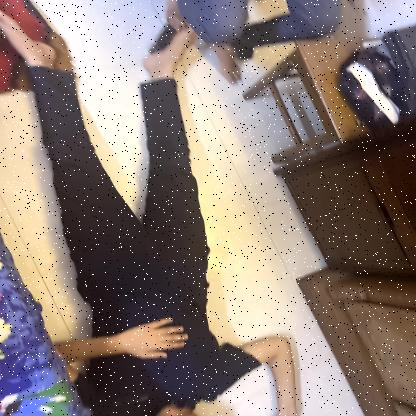hand: (39, 309, 199, 367), (254, 327, 319, 416)
leg: (126, 15, 213, 101), (0, 0, 82, 91), (201, 15, 268, 98)
